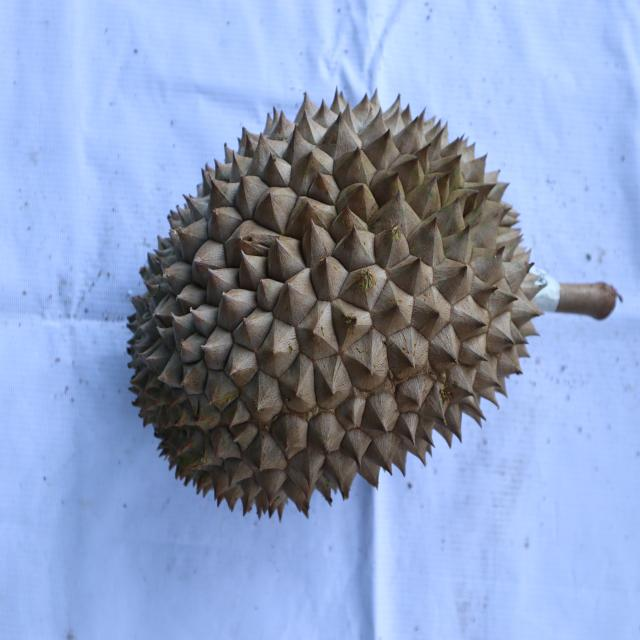mature: (123, 85, 545, 534)
